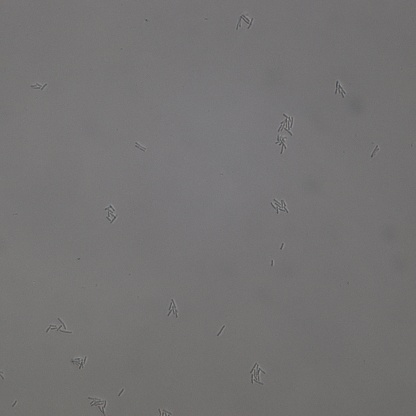R(colony): (46, 317, 71, 335), (248, 360, 265, 385), (278, 113, 298, 134), (87, 396, 108, 415), (236, 13, 254, 32), (269, 197, 289, 214), (71, 354, 88, 370), (104, 205, 118, 224), (166, 297, 178, 319), (275, 135, 288, 153), (334, 81, 346, 99), (31, 81, 48, 91), (134, 143, 147, 152)
